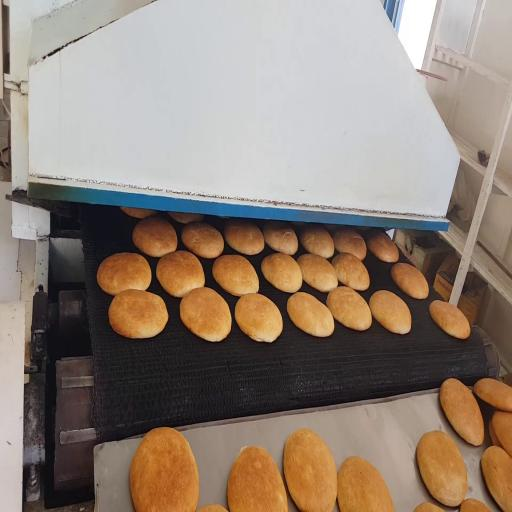bread: (130, 428, 198, 511), (284, 429, 337, 511), (227, 447, 287, 511), (416, 431, 467, 506), (338, 457, 394, 511), (440, 379, 484, 446), (109, 290, 168, 338), (180, 288, 231, 341), (235, 293, 282, 342), (97, 253, 151, 295), (156, 251, 205, 297), (287, 292, 334, 337), (481, 447, 511, 511), (327, 287, 371, 330), (212, 255, 258, 296), (369, 291, 411, 334), (133, 217, 177, 257), (261, 253, 302, 293), (430, 300, 470, 339), (298, 254, 337, 292), (182, 222, 223, 258), (332, 253, 369, 291), (224, 220, 264, 255), (391, 263, 428, 299), (474, 378, 511, 411), (263, 221, 298, 255), (300, 226, 334, 258), (333, 228, 366, 260), (367, 231, 398, 263), (492, 411, 511, 456), (120, 207, 156, 219), (168, 212, 203, 224), (460, 499, 491, 511), (489, 419, 502, 447), (414, 503, 443, 511), (198, 505, 227, 511)
